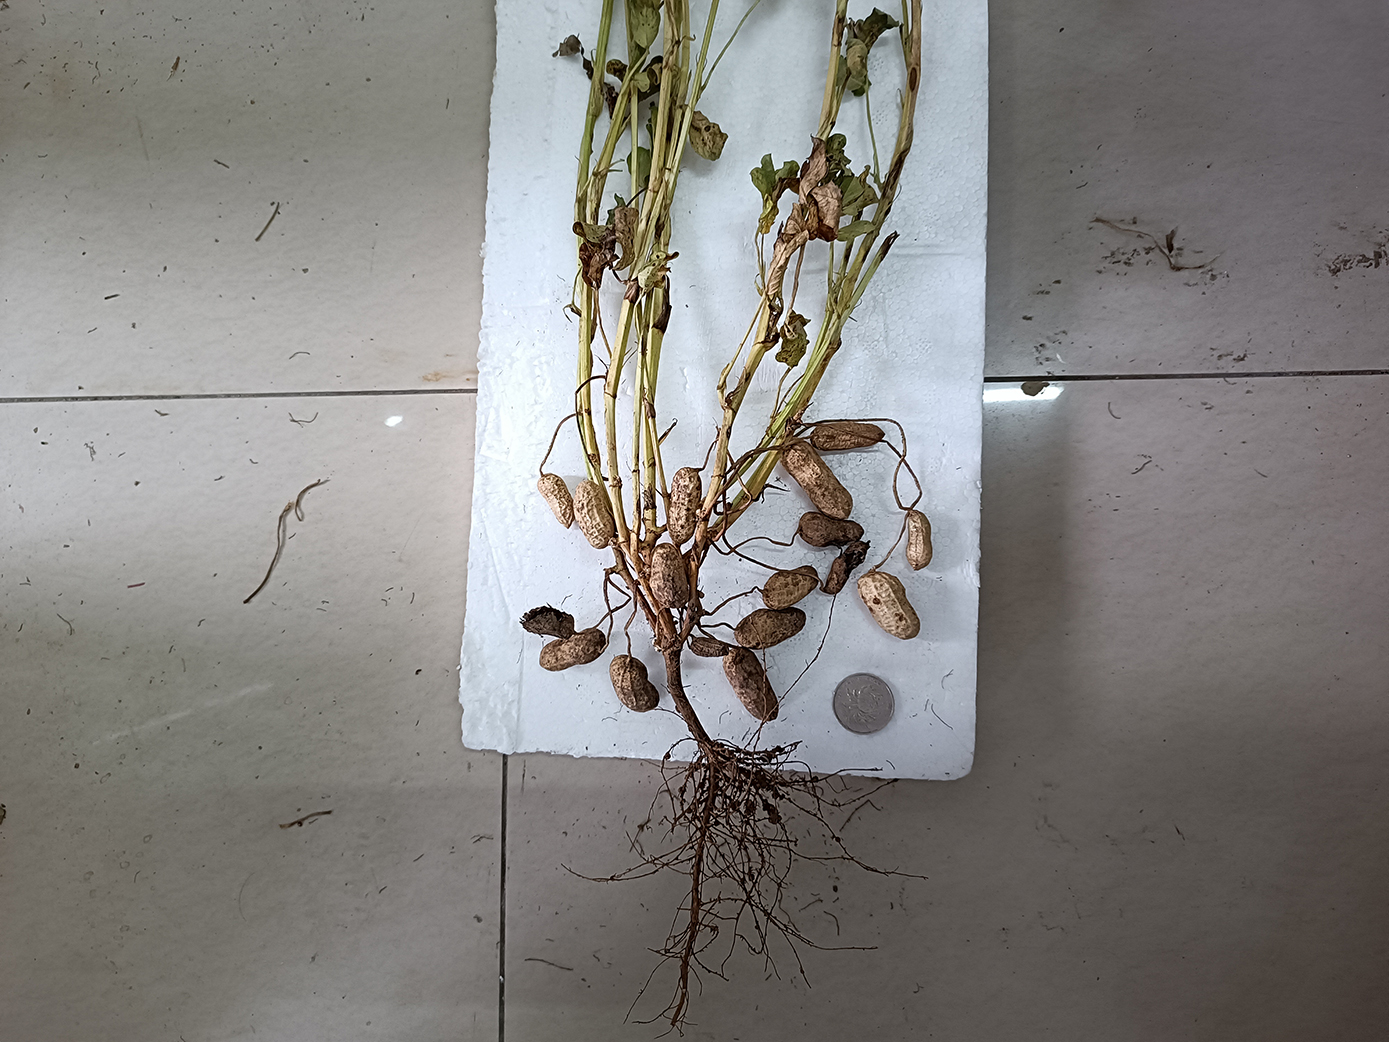h: (782, 437, 853, 520), (858, 571, 921, 640), (572, 478, 615, 549), (609, 655, 660, 713), (667, 466, 702, 544), (761, 564, 820, 609), (650, 543, 688, 607), (537, 474, 574, 529), (905, 510, 933, 572)
l: (724, 646, 779, 721), (734, 607, 807, 650), (539, 628, 607, 672), (823, 539, 871, 595), (798, 511, 865, 548), (809, 422, 886, 451), (519, 602, 574, 640), (691, 637, 730, 658)
